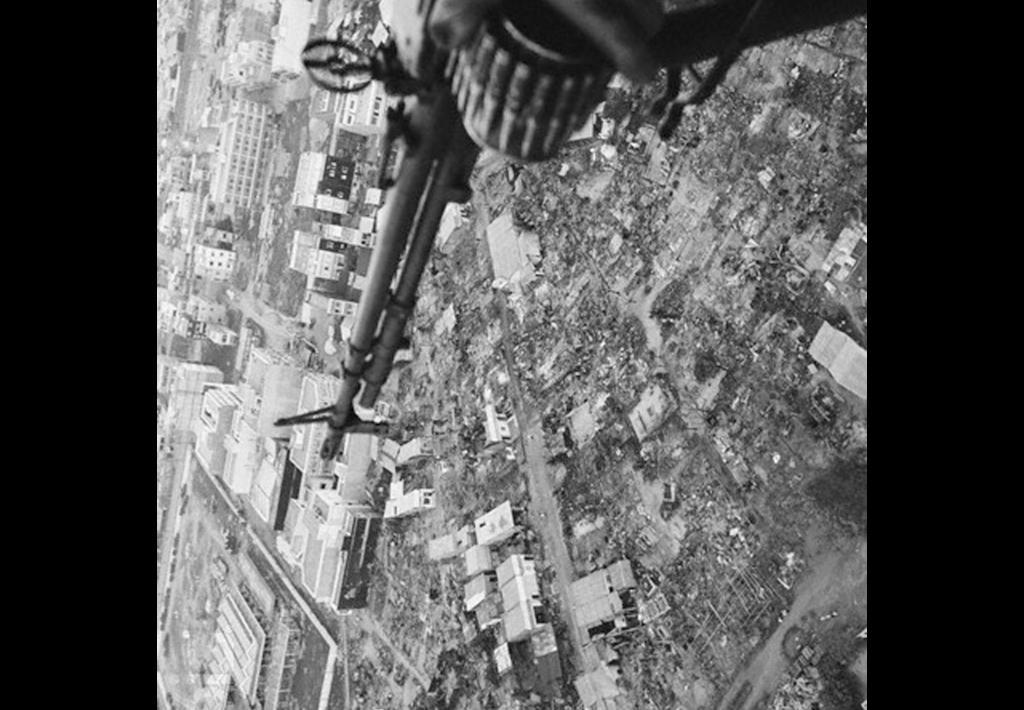gun: (294, 10, 576, 465)
